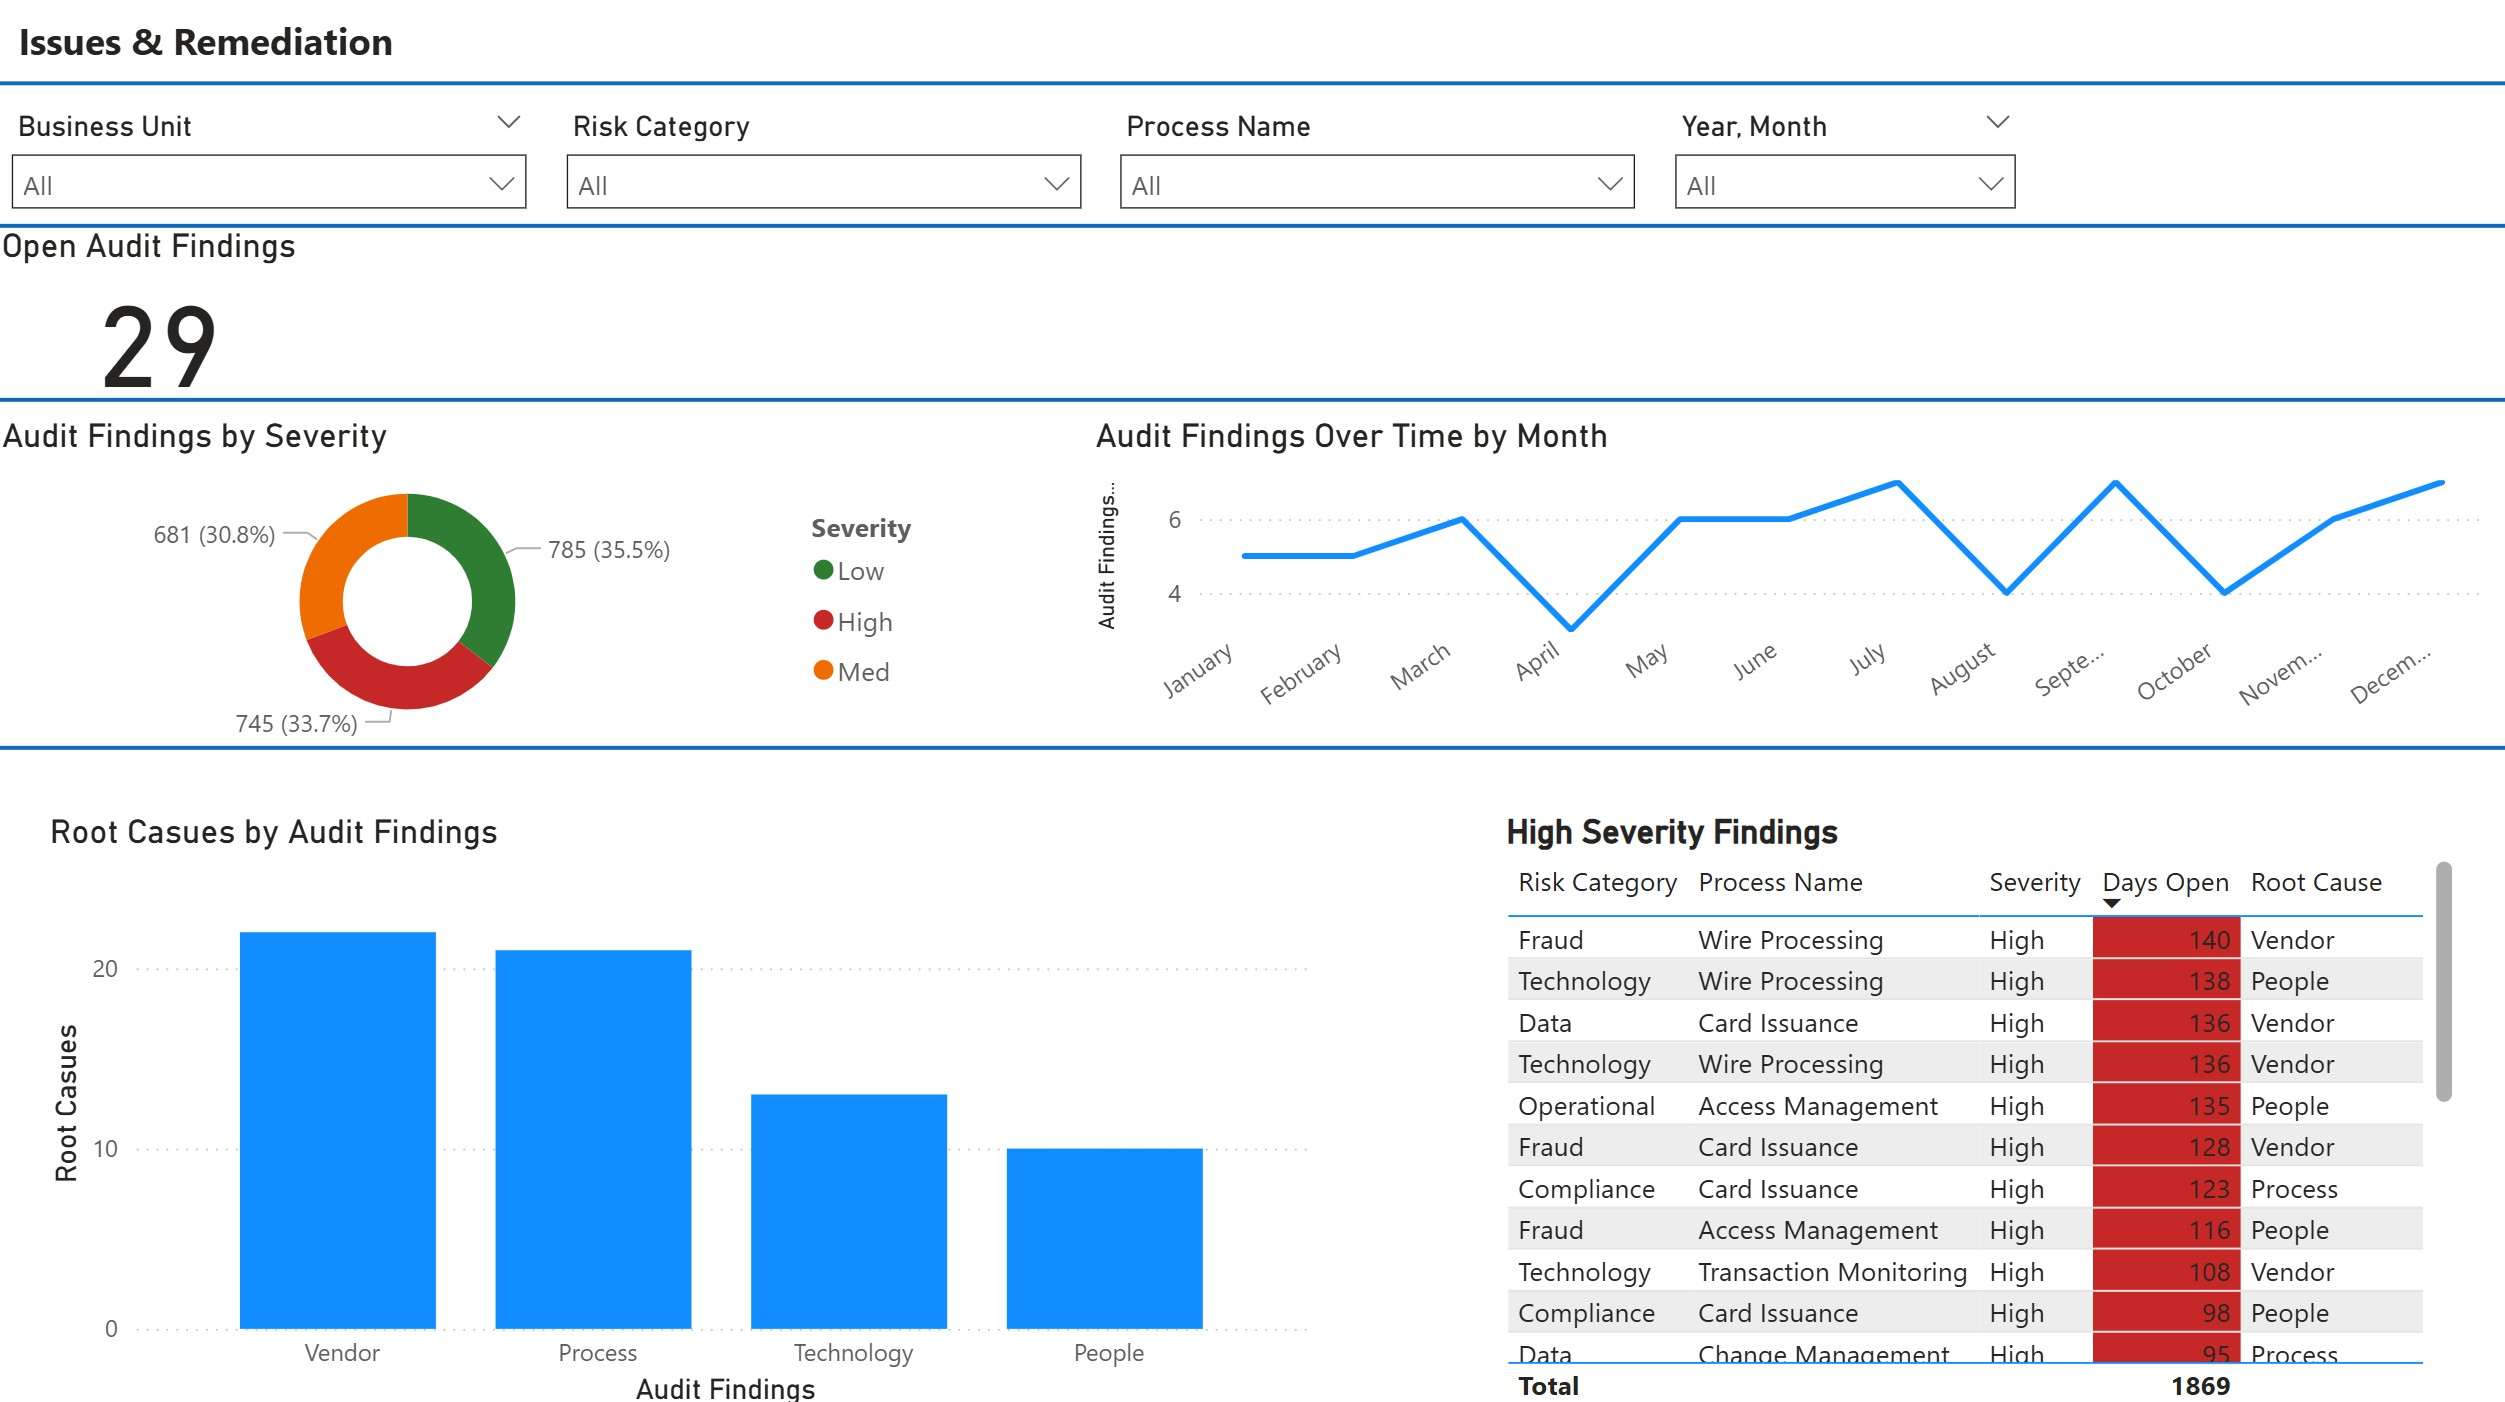

What the dashboard file says about the page in this screenshot:
{"tool":"powerbi","page":{"name":"Audit Oversight","canvas":[1280,720],"ordinal":4},"visuals":[{"type":"slicer","fields":{"Values":["dim_business_unit.business_unit_name"]},"box":[0,56,280,64],"z":0},{"type":"slicer","fields":{"Values":["dim_risk.risk_category"]},"box":[280,56,280,64],"z":1000},{"type":"slicer","fields":{"Values":["dim_process.process_name"]},"box":[560,56,280,64],"z":2000},{"type":"slicer","fields":{"Values":["fact_issue.opened_date.Variation.Date Hierarchy.Year","fact_issue.opened_date.Variation.Date Hierarchy.Month"]},"box":[840,56,192,64],"z":3000},{"type":"donutChart","fields":{"Category":["fact_issue.severity"],"Y":["Sum(fact_issue.issue_id)"]},"box":[0,216,488,168],"z":4000},{"type":"lineChart","fields":{"Category":["fact_issue.opened_date.Variation.Date Hierarchy.Month"],"Y":["Count(fact_issue.issue_id)"]},"box":[552,216,712,160],"z":5000},{"type":"columnChart","fields":{"Category":["fact_issue.root_cause_category"],"Y":["Count(fact_issue.issue_id)"]},"box":[24,416,648,304],"z":6000},{"type":"tableEx","title":"High Severity Findings","fields":{"Values":["dim_risk.risk_category","dim_process.process_name","fact_issue.severity","Sum(fact_issue.days_open)","fact_issue.root_cause_category"]},"box":[760,416,488,304],"z":7000},{"type":"card","title":"Open Audit Findings","fields":{"Values":["Measure.Open Audit Findings"]},"box":[0,120,168,88],"z":8000},{"type":"textbox","box":[8,8,200,40],"z":8001},{"type":"shape","box":[0,40,1280,16],"z":8002},{"type":"shape","box":[0,112,1280,16],"z":8003},{"type":"shape","box":[0,376,1280,16],"z":8004},{"type":"shape","box":[0,200,1280,16],"z":8005}]}

Visuals, with their boxes in screenshot pixels (x1, y1, x2, y2), scaled from the page's 1280x720 canvas onto the 2505x1402 screenshot:
slicer - dim_business_unit.business_unit_name: [0, 109, 548, 234]
slicer - dim_risk.risk_category: [548, 109, 1096, 234]
slicer - dim_process.process_name: [1096, 109, 1644, 234]
slicer - fact_issue.opened_date.Variation.Date Hierarchy.Year x fact_issue.opened_date.Variation.Date Hierarchy.Month: [1644, 109, 2020, 234]
donutChart - fact_issue.severity x Sum(fact_issue.issue_id): [0, 421, 955, 748]
lineChart - fact_issue.opened_date.Variation.Date Hierarchy.Month x Count(fact_issue.issue_id): [1080, 421, 2474, 732]
columnChart - fact_issue.root_cause_category x Count(fact_issue.issue_id): [47, 810, 1315, 1401]
"High Severity Findings" tableEx: [1487, 810, 2442, 1401]
"Open Audit Findings" card: [0, 234, 329, 405]
textbox: [16, 16, 407, 93]
shape: [0, 78, 2504, 109]
shape: [0, 218, 2504, 249]
shape: [0, 732, 2504, 763]
shape: [0, 389, 2504, 421]
